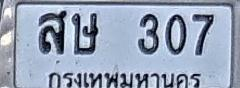0: (166, 12, 186, 55)
3: (138, 13, 160, 54)
7: (192, 12, 214, 55)
A39: (72, 12, 99, 54)
A40: (38, 10, 67, 54)
BKK: (45, 67, 204, 88)
